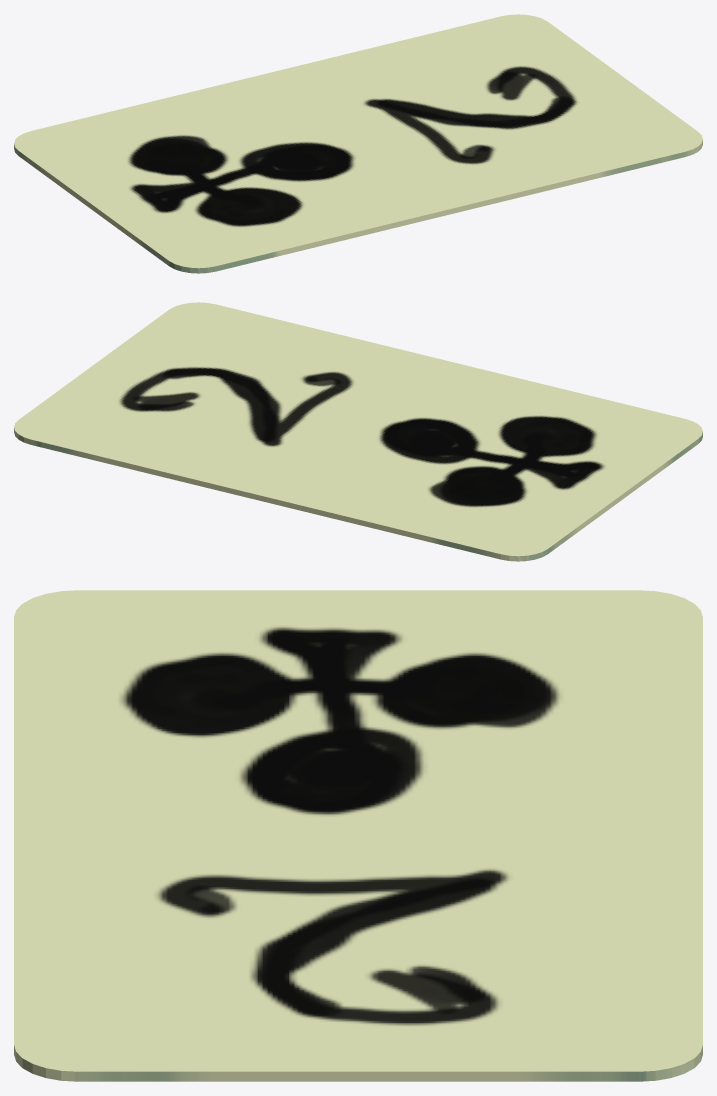
The picture shows the model from 3 angles, top to bottom: view 1: azimuth 30°, elevation 25°; view 2: azimuth 150°, elevation 25°; view 3: azimuth 270°, elevation 25°; orthographic projection. The views are drawn at different scales.
Parts seen in each view (by area): view 1: Card; view 2: Card; view 3: Card.
Part boxes in pixels (x1,y1,x2,y2): Card: (14, 14, 702, 273); Card: (14, 302, 702, 561); Card: (14, 590, 702, 1081).
Size of the model in its own units: 0.6456 by 0.3904 by 0.00625.
Materials: 1 (1 with a texture image).
